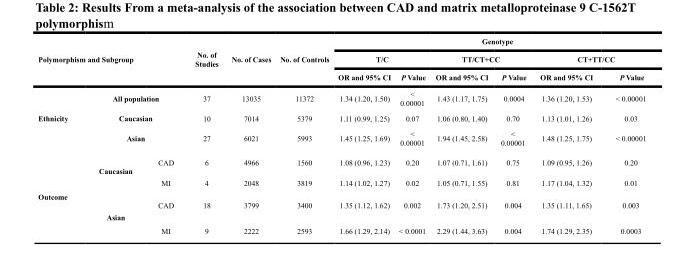table: (37, 36, 645, 234)
table column: (532, 36, 603, 234), (429, 36, 493, 234), (82, 36, 144, 234), (332, 36, 394, 234), (274, 36, 332, 234), (224, 36, 274, 234), (37, 36, 82, 234), (603, 36, 645, 234), (183, 36, 224, 234), (144, 36, 183, 234), (493, 36, 532, 234), (394, 36, 429, 234)
table column header: (37, 36, 645, 85)
table row: (37, 125, 645, 152), (37, 85, 645, 110), (37, 193, 645, 217), (37, 172, 645, 193), (37, 152, 645, 172), (37, 49, 645, 67), (37, 67, 645, 85), (37, 217, 645, 234), (37, 110, 645, 125), (37, 36, 645, 49)
table spanning cell: (37, 36, 183, 85), (332, 36, 645, 49), (37, 152, 82, 234), (37, 85, 82, 152), (274, 36, 332, 85), (82, 125, 183, 152), (82, 152, 144, 193), (82, 193, 144, 234), (82, 85, 183, 110), (224, 36, 274, 85), (532, 49, 645, 67), (183, 36, 224, 85), (429, 49, 532, 67), (332, 49, 429, 67), (82, 110, 183, 125)
